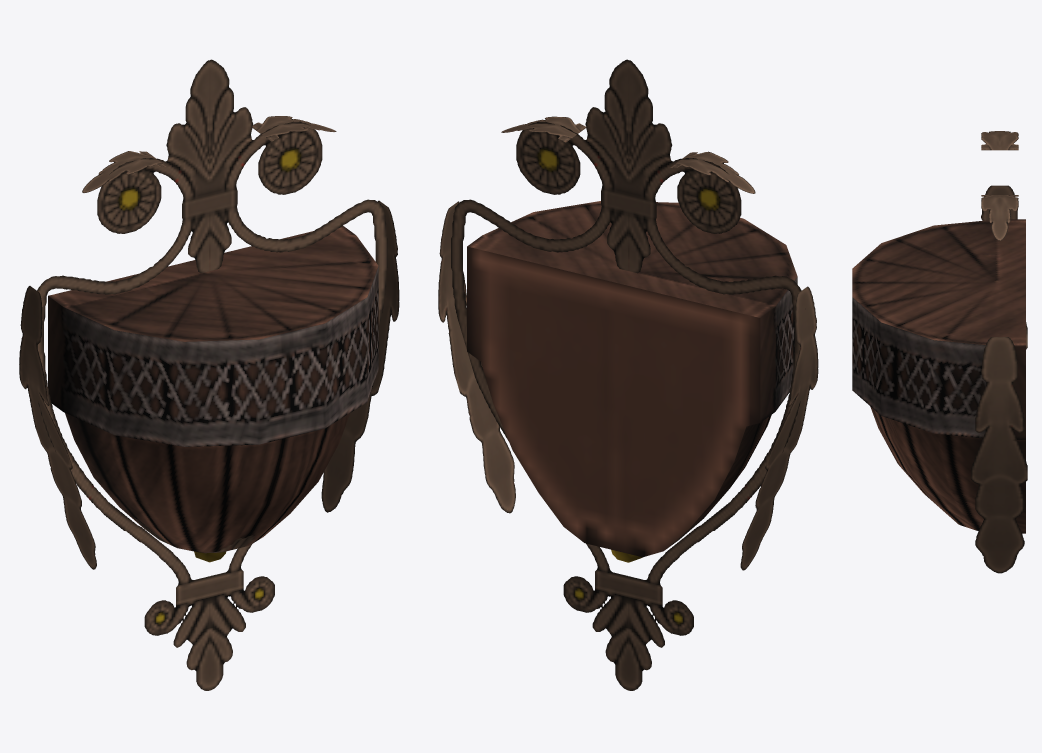
The model's file is WallLamp02.FBX.
3 renders of one model, left to right at view 1: azimuth 30°, elevation 25°; view 2: azimuth 150°, elevation 25°; view 3: azimuth 270°, elevation 25°, orthographic. The views are drawn at different scales.
Visible parts, largest first — view 1: WallLamp02; view 2: WallLamp02; view 3: WallLamp02.
Boxes of the visible parts, x1=… form: WallLamp02: x1=19, y1=59, x2=399, y2=690; WallLamp02: x1=438, y1=59, x2=818, y2=690; WallLamp02: x1=852, y1=131, x2=1027, y2=573.
Bounding box in the file's own units: 43.73 × 20.17 × 71.57.
